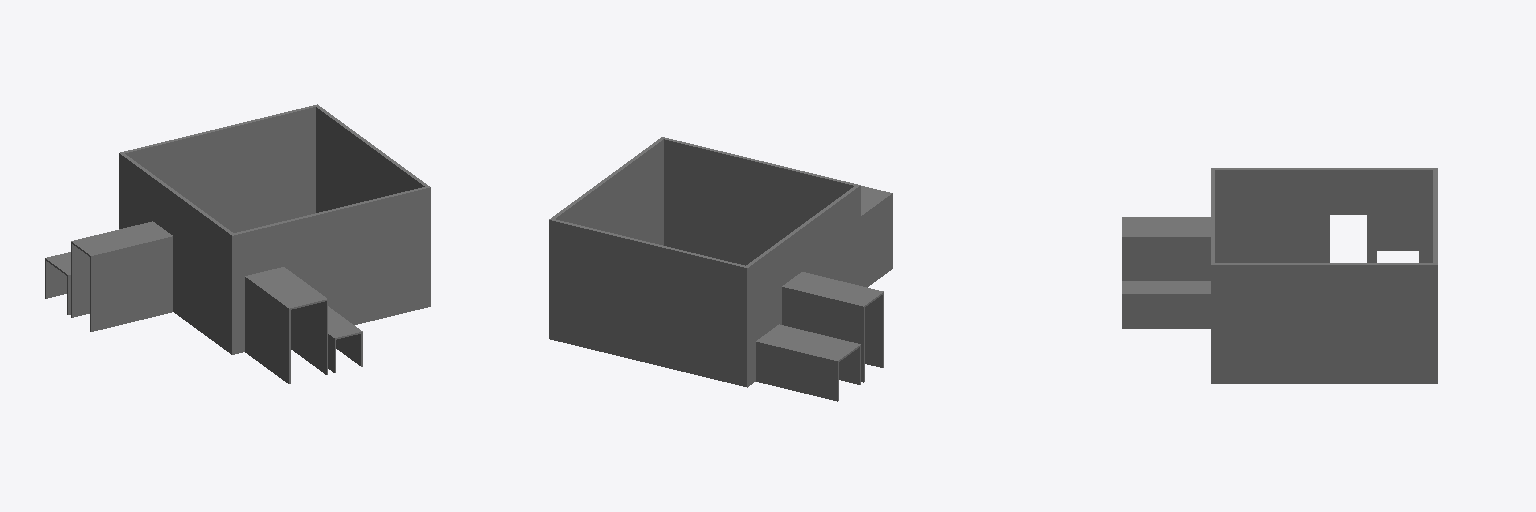
The model's file is walls.obj.
The picture shows the model from 3 angles: view 1: azimuth 30°, elevation 25°; view 2: azimuth 150°, elevation 25°; view 3: azimuth 270°, elevation 25°; orthographic projection.
Visible parts, largest first — view 1: Walls; view 2: Walls; view 3: Walls.
Part boxes in pixels (x1,y1,x2,y2): Walls: (45,104,430,383); Walls: (549,137,892,401); Walls: (1122,168,1437,383).
Size of the model in its own units: 44.37 by 18.02 by 43.17.